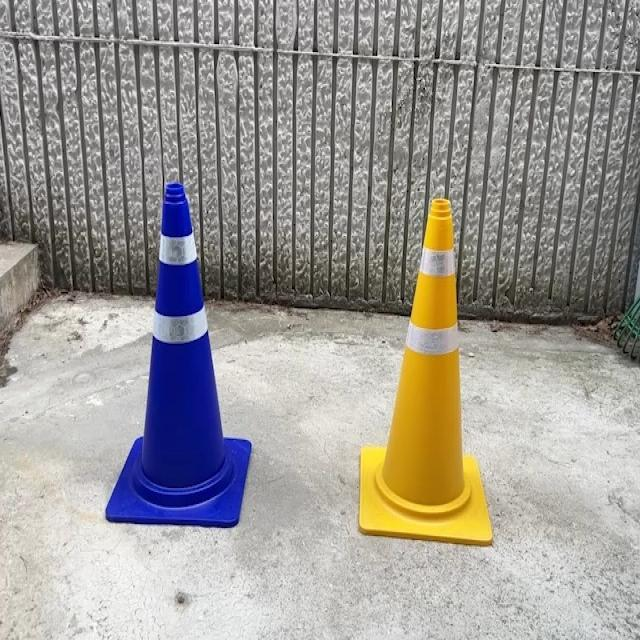b_rub: (104, 184, 251, 525)
y_rub: (359, 199, 492, 540)
